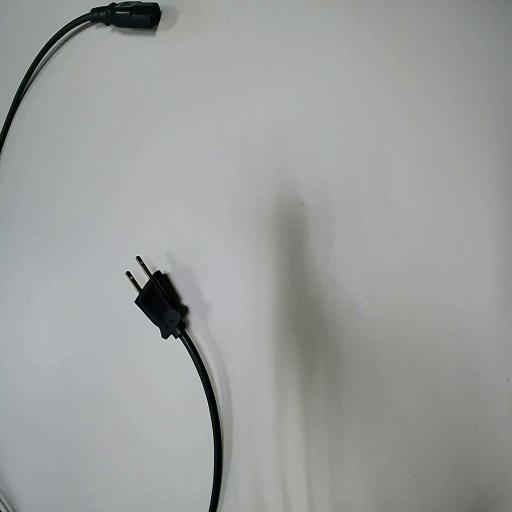wire: (0, 2, 160, 149), (131, 258, 221, 511)
